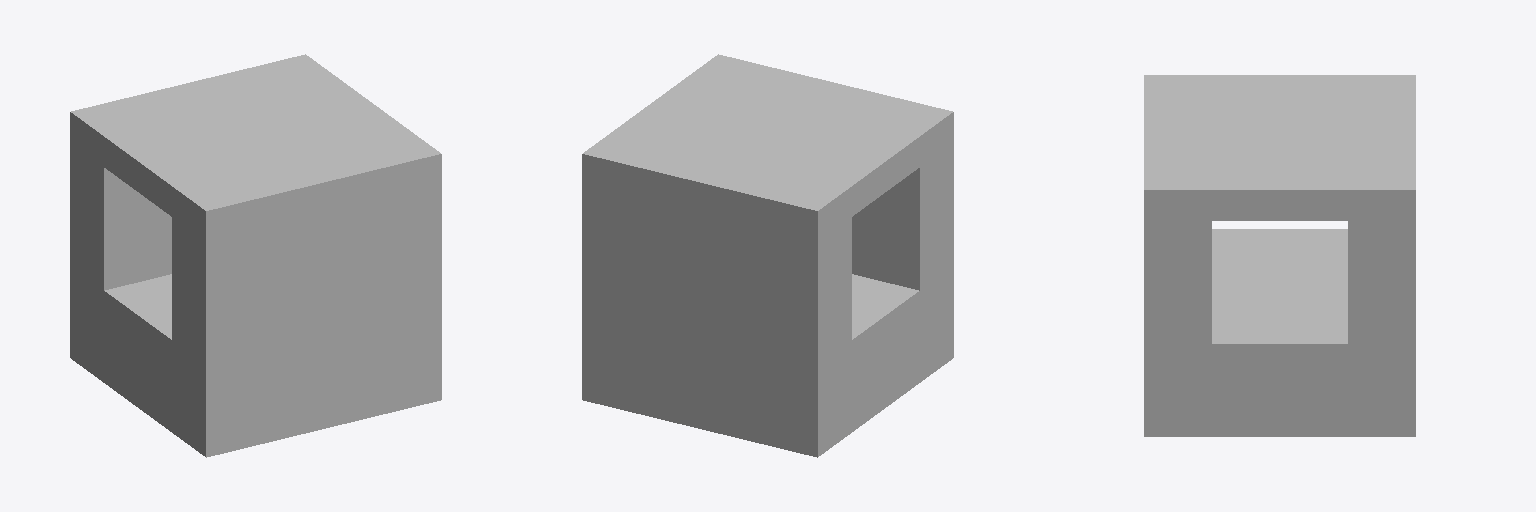
3 views of the same model, side by side, from view 1: azimuth 30°, elevation 25°; view 2: azimuth 150°, elevation 25°; view 3: azimuth 270°, elevation 25° (orthographic).
Parts seen in each view (by area): view 1: 1_Cube.001; view 2: 1_Cube.001; view 3: 1_Cube.001.
Part boxes in pixels (x1,y1,x2,y2): 1_Cube.001: (70,54,441,457); 1_Cube.001: (582,54,953,457); 1_Cube.001: (1144,75,1415,436).
Size of the model in its own units: 2 by 2 by 2.